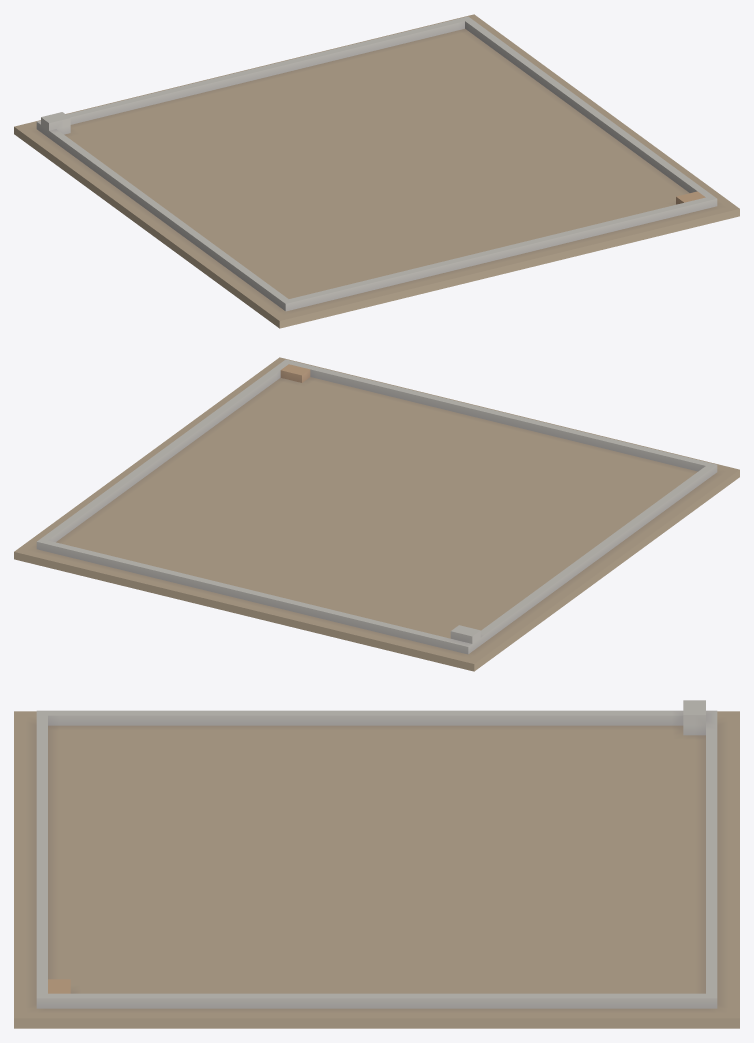
The model's file is life_stage_8.v0.glb.
3 renders of one model, top to bottom at view 1: azimuth 30°, elevation 25°; view 2: azimuth 150°, elevation 25°; view 3: azimuth 270°, elevation 25°, orthographic. The views are drawn at different scales.
Visible parts, largest first — view 1: life_stage_8; view 2: life_stage_8; view 3: life_stage_8.
Part boxes in pixels (box(x1,y1,x2,y2)): life_stage_8: box(14, 14, 739, 328); life_stage_8: box(14, 357, 739, 671); life_stage_8: box(14, 700, 739, 1028).
Bounding box in the file's own units: 8 × 0.375 × 8.
